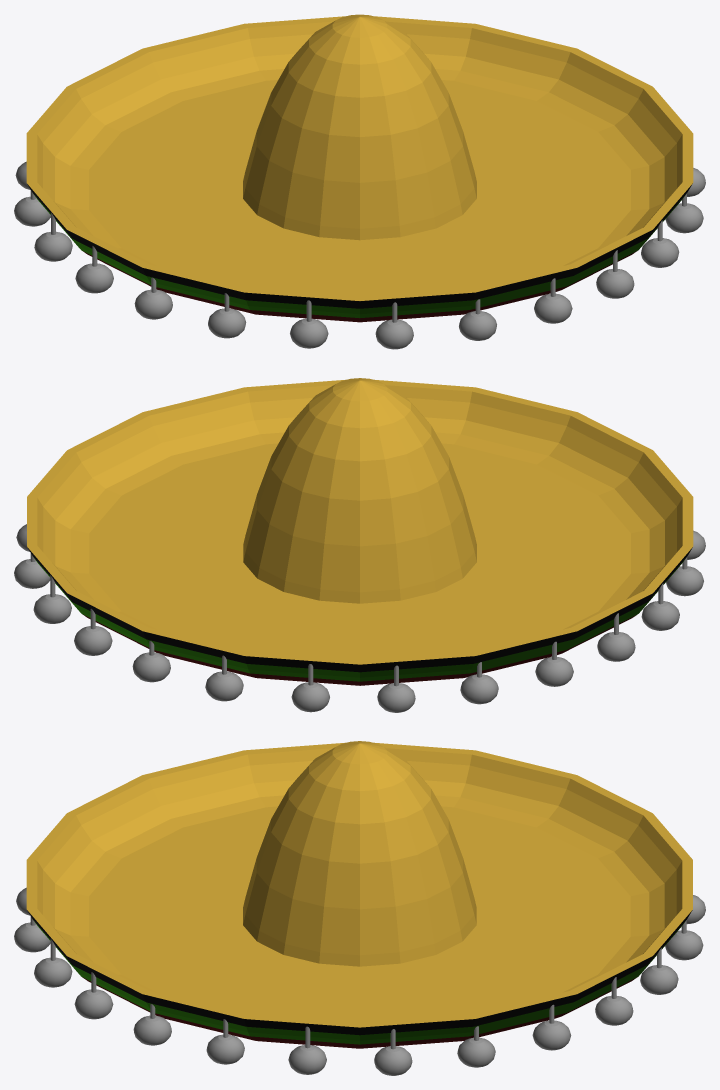
File: Sombrero.obj
The picture shows the model from 3 angles, top to bottom: view 1: azimuth 30°, elevation 25°; view 2: azimuth 150°, elevation 25°; view 3: azimuth 270°, elevation 25°; orthographic projection.
Visible parts, largest first — view 1: Cylinder002, Sphere033, Sphere029, Sphere042, Sphere035, Sphere036, Sphere037, Sphere032, Sphere041, Sphere034, Sphere031, Sphere030 (+1 smaller); view 2: Cylinder002, Sphere039, Sphere046, Sphere045, Sphere042, Sphere041, Sphere040, Sphere049, Sphere044, Sphere043, Sphere047, Sphere031 (+1 smaller); view 3: Cylinder002, Sphere048, Sphere046, Sphere027, Sphere036, Sphere037, Sphere050, Sphere038, Sphere045, Sphere030, Sphere028, Sphere047 (+1 smaller).
Boxes of the visible parts, <box> form: Cylinder002: <box>26,14,693,322</box>; Sphere033: <box>290,300,328,348</box>; Sphere029: <box>375,302,413,349</box>; Sphere042: <box>75,246,113,293</box>; Sphere035: <box>534,278,572,323</box>; Sphere036: <box>596,250,634,298</box>; Sphere037: <box>641,220,679,267</box>; Sphere032: <box>208,293,246,338</box>; Sphere041: <box>34,213,72,261</box>; Sphere034: <box>459,299,496,340</box>; Sphere031: <box>134,277,172,319</box>; Sphere030: <box>665,193,703,233</box>; Cylinder002: <box>27,378,693,685</box>; Sphere039: <box>291,664,329,712</box>; Sphere046: <box>33,575,71,623</box>; Sphere045: <box>74,608,112,655</box>; Sphere042: <box>641,583,679,630</box>; Sphere041: <box>597,613,635,661</box>; Sphere040: <box>377,665,415,712</box>; Sphere049: <box>205,655,243,701</box>; Sphere044: <box>535,641,573,686</box>; Sphere043: <box>460,662,498,704</box>; Sphere047: <box>132,641,170,682</box>; Sphere031: <box>666,557,703,596</box>; Cylinder002: <box>26,741,692,1048</box>; Sphere048: <box>288,1026,326,1074</box>; Sphere046: <box>595,977,633,1025</box>; Sphere027: <box>374,1029,412,1075</box>; Sphere036: <box>34,939,72,987</box>; Sphere037: <box>74,972,113,1019</box>; Sphere050: <box>532,1004,571,1050</box>; Sphere038: <box>206,1019,244,1064</box>; Sphere045: <box>640,948,678,994</box>; Sphere030: <box>133,1004,171,1045</box>; Sphere028: <box>457,1026,495,1067</box>; Sphere047: <box>665,920,703,960</box>.
Bounding box in the file's own units: 750435 × 229959 × 750666.
